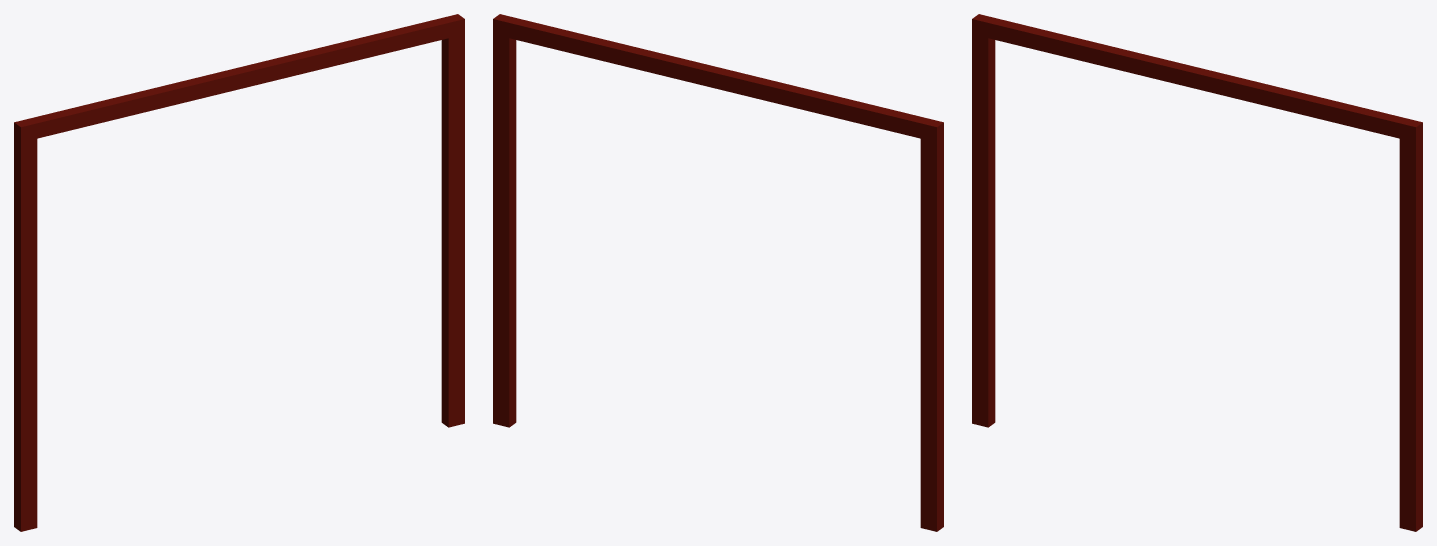
The model's file is DX_Ball.fbx.
The picture shows the model from 3 angles, left to right: view 1: azimuth 30°, elevation 25°; view 2: azimuth 150°, elevation 25°; view 3: azimuth 330°, elevation 25°; orthographic projection.
Parts seen in each view (by area): view 1: Cube.001; view 2: Cube.001; view 3: Cube.001.
Boxes of the visible parts, x1,y1,x2,y2 form: Cube.001: (14, 14, 464, 531); Cube.001: (493, 14, 943, 531); Cube.001: (972, 14, 1422, 531).
Size of the model in its own units: 0.8 by 26.34 by 30.24.
